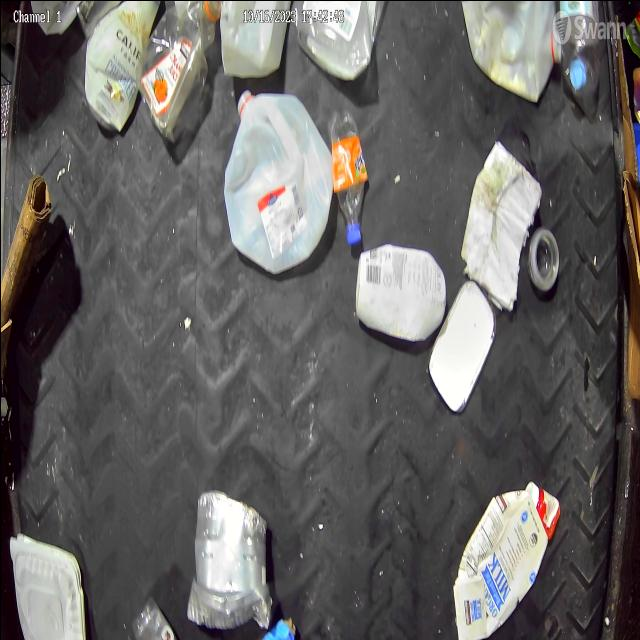milk_jug: (226, 89, 336, 277), (457, 0, 562, 102), (220, 0, 292, 80)
plastic_bottle: (322, 104, 368, 248), (552, 0, 602, 103)
